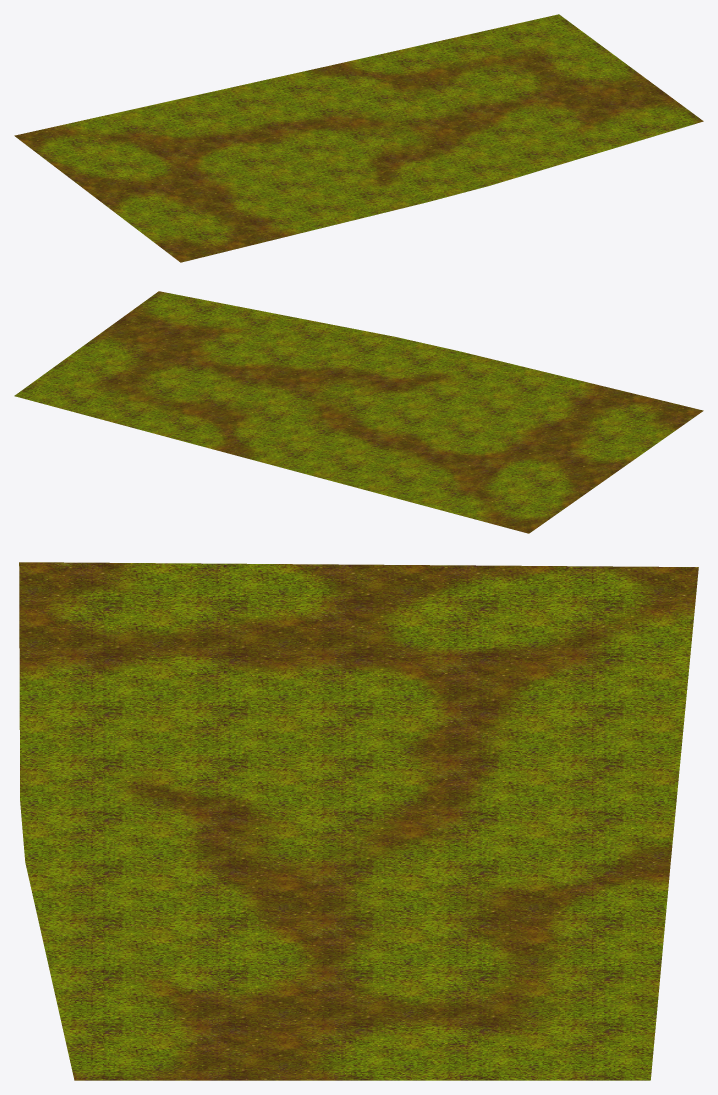
The model's file is ground6.glb.
3 views of the same model, one above another, from view 1: azimuth 30°, elevation 25°; view 2: azimuth 150°, elevation 25°; view 3: azimuth 270°, elevation 25° (orthographic). The views are drawn at different scales.
Visible parts, largest first — view 1: Plane.001; view 2: Plane.001; view 3: Plane.001.
Boxes of the visible parts, x1,y1,x2,y2 form: Plane.001: [14, 14, 703, 262]; Plane.001: [14, 291, 703, 533]; Plane.001: [19, 562, 698, 1080].
Size of the model in its own units: 122 by 0.0745 by 67.52.
1 material, 1 textured.
